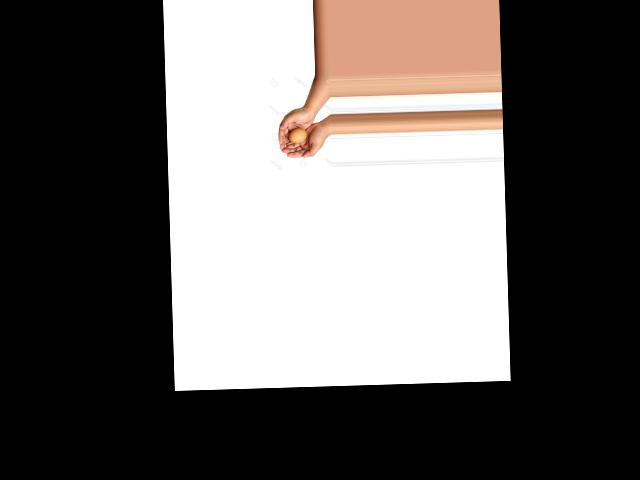egg: (289, 127, 307, 143)
